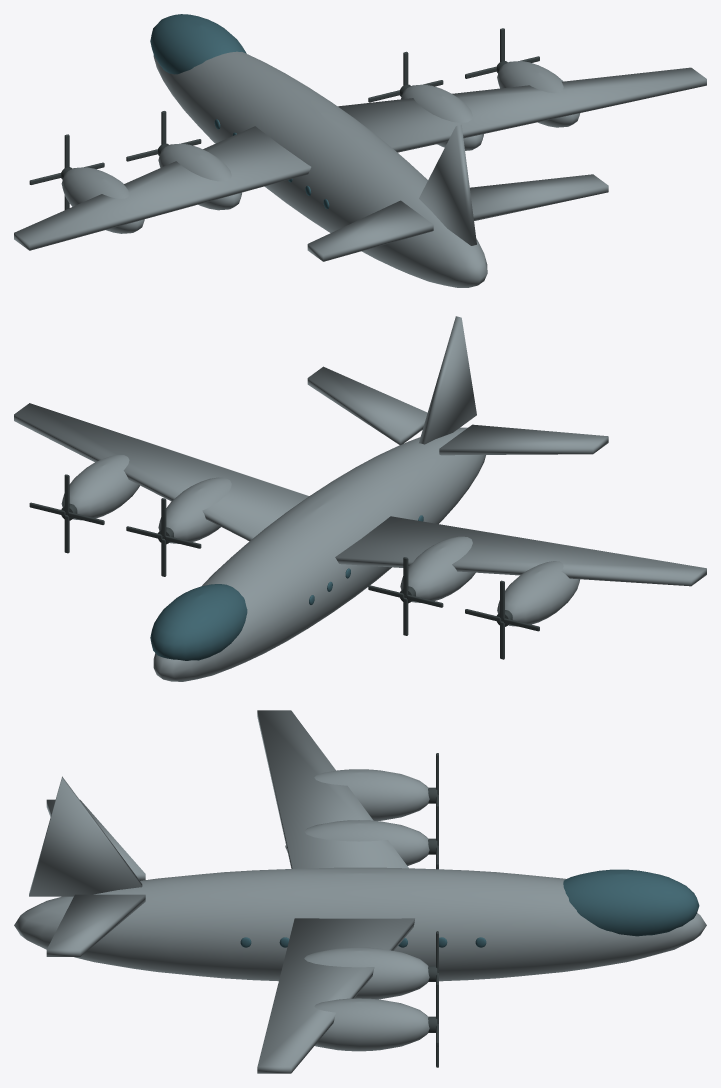
Rendered from transport.glb.
The picture shows the model from 3 angles, top to bottom: view 1: azimuth 30°, elevation 25°; view 2: azimuth 150°, elevation 25°; view 3: azimuth 270°, elevation 25°; orthographic projection. The views are drawn at different scales.
Visible parts, largest first — view 1: airframe_Storm-grey fuselage, airframe_Flight glass, airframe_Graphite; view 2: airframe_Storm-grey fuselage, airframe_Flight glass, airframe_Graphite; view 3: airframe_Storm-grey fuselage, airframe_Flight glass, airframe_Graphite.
Boxes of the visible parts, x1,y1,x2,y2 form: airframe_Storm-grey fuselage: (14,51,706,287); airframe_Flight glass: (150,14,329,209); airframe_Graphite: (29,28,539,209); airframe_Storm-grey fuselage: (14,316,706,681); airframe_Flight glass: (150,515,423,660); airframe_Graphite: (29,474,539,659); airframe_Storm-grey fuselage: (14,710,706,1073); airframe_Flight glass: (240,869,699,947); airframe_Graphite: (428,753,438,1067).
Bounding box in the file's own units: 28 × 7.3 × 23.
